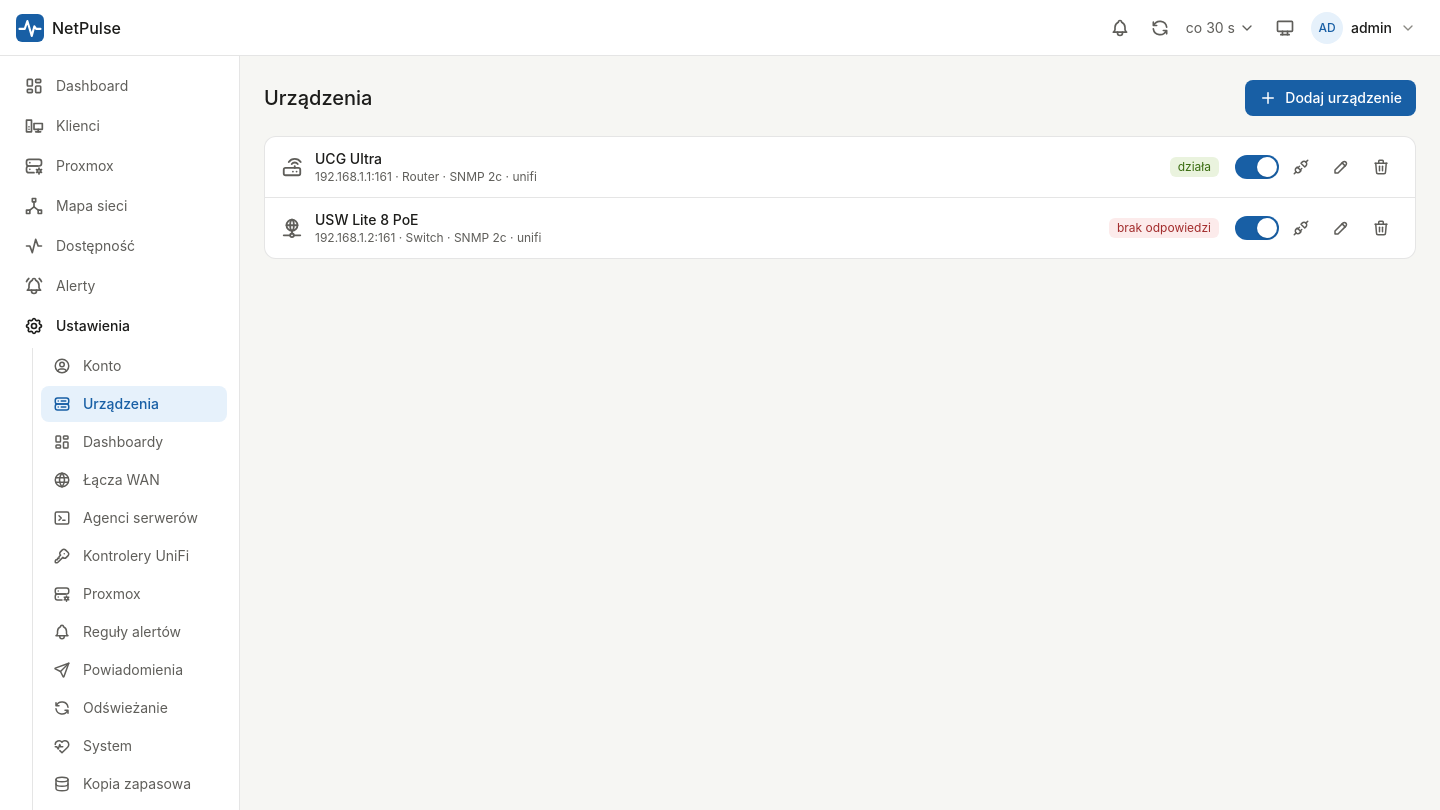
lista urządzeń › test SNMP pokazuje błąd serwera
Check: the heading "Urządzenia" is shown, box [264,84,372,112]
Click the button named "Testuj UCG Ultra": point(1301, 167) [1283,149,1319,185]
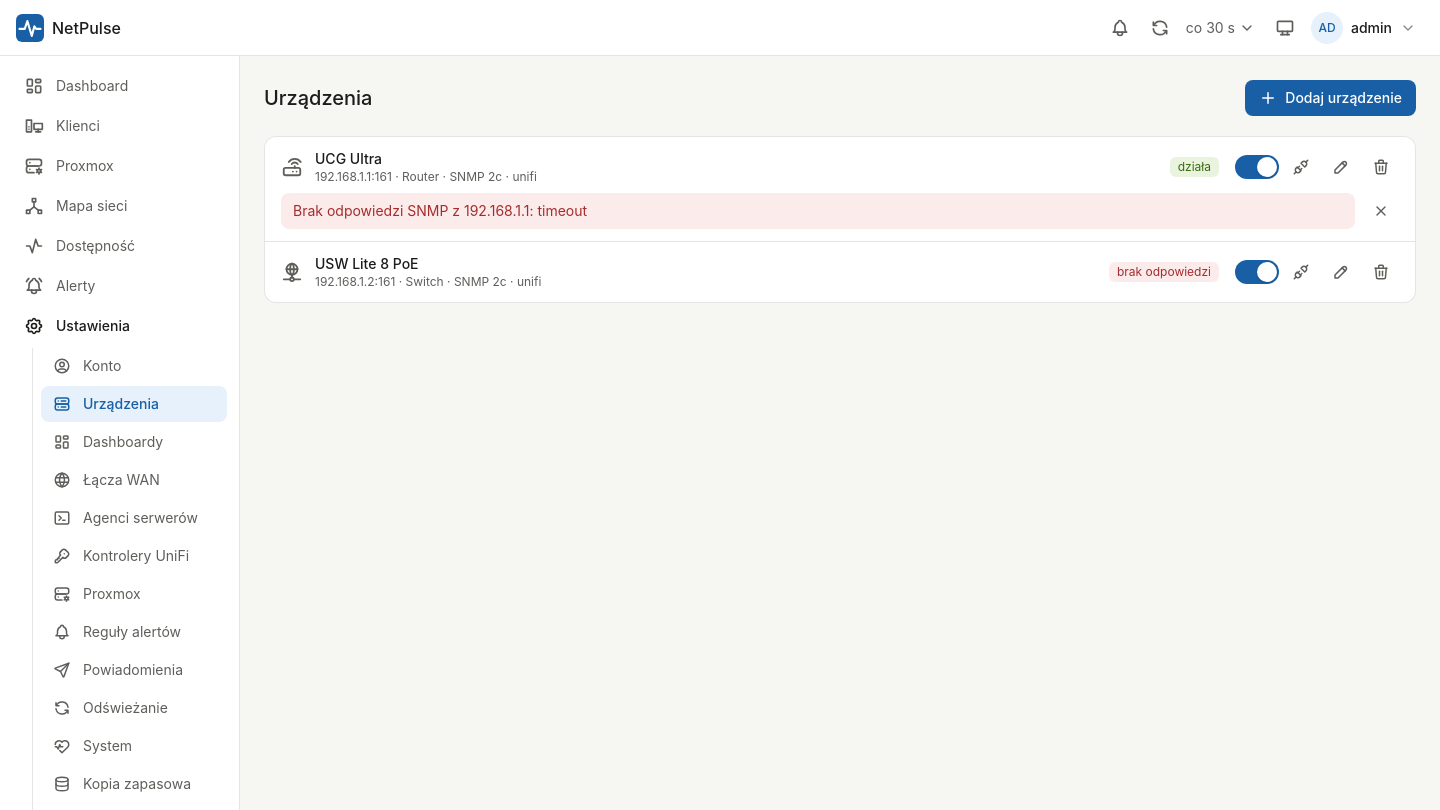
Check: the text "Brak odpowiedzi SNMP z 192.168.1.1: timeout" is shown, box [281,193,1355,229]
